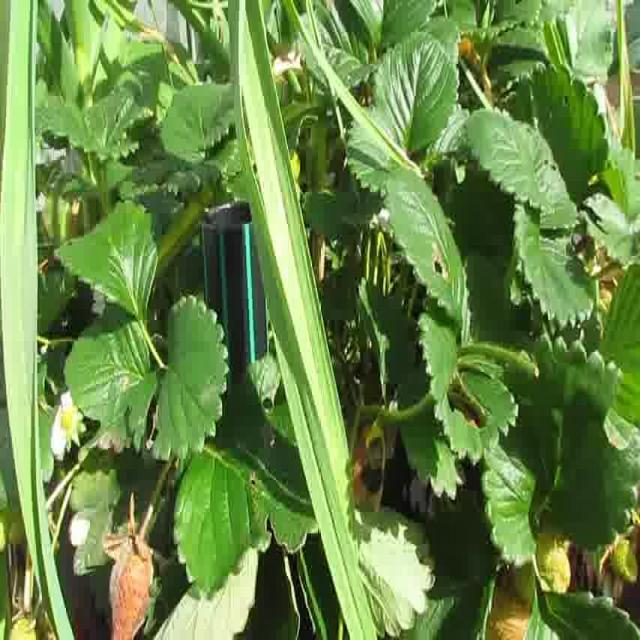Moho gris: (105, 516, 153, 640)
